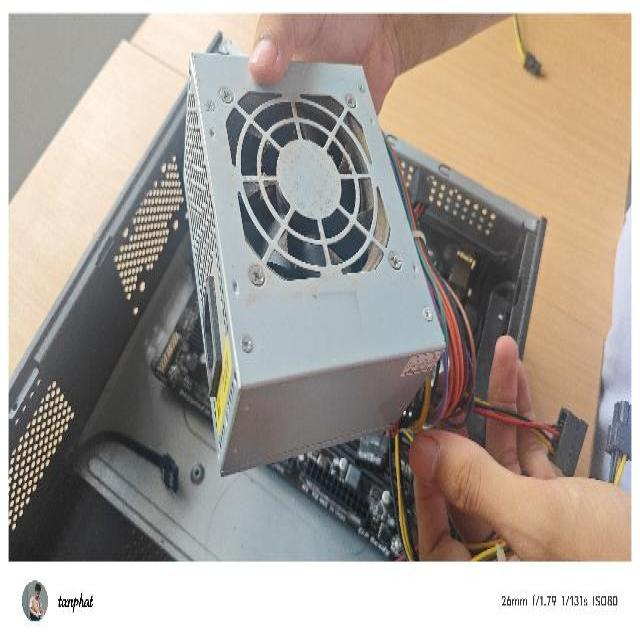PSU: (180, 47, 449, 478)
